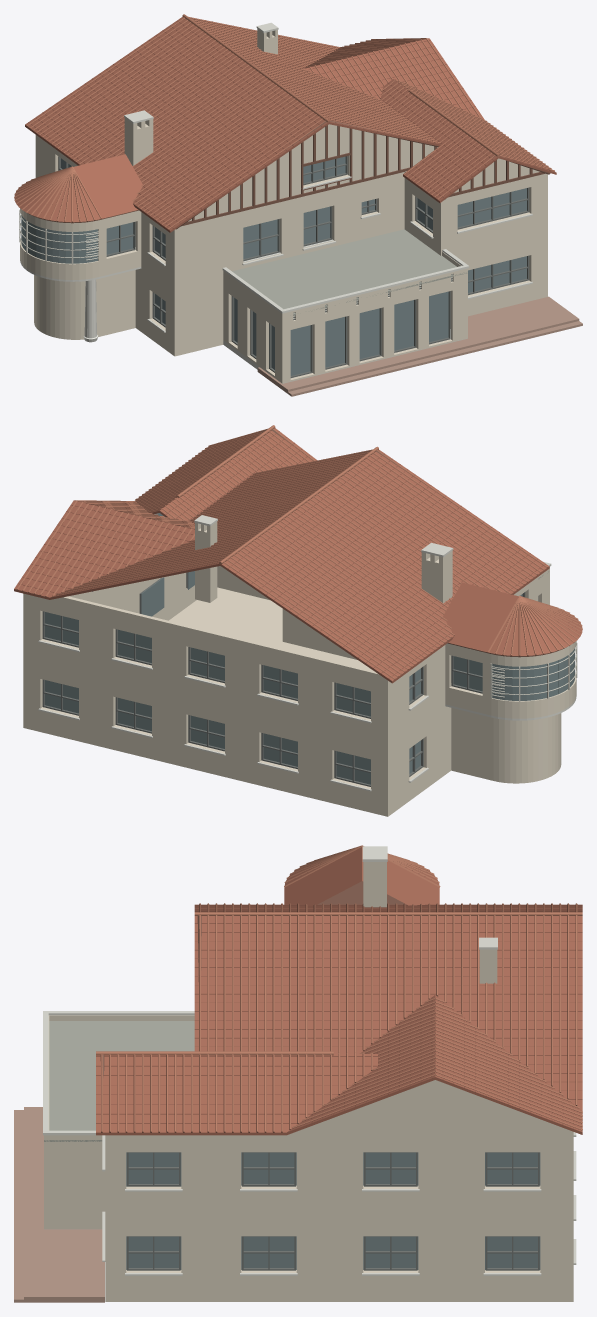
The model's file is xuhui-libo-garden-east-house-raw.glb.
3 views of the same model, one above another, from view 1: azimuth 30°, elevation 25°; view 2: azimuth 150°, elevation 25°; view 3: azimuth 270°, elevation 25° (orthographic). The views are drawn at different scales.
Visible parts, largest first — view 1: 丽波花园东主楼; view 2: 丽波花园东主楼; view 3: 丽波花园东主楼.
Boxes of the visible parts, x1,y1,x2,y2 form: 丽波花园东主楼: [14, 14, 582, 396]; 丽波花园东主楼: [14, 425, 582, 816]; 丽波花园东主楼: [14, 845, 582, 1302].
Size of the model in its own units: 25.85 by 11.48 by 21.9.
